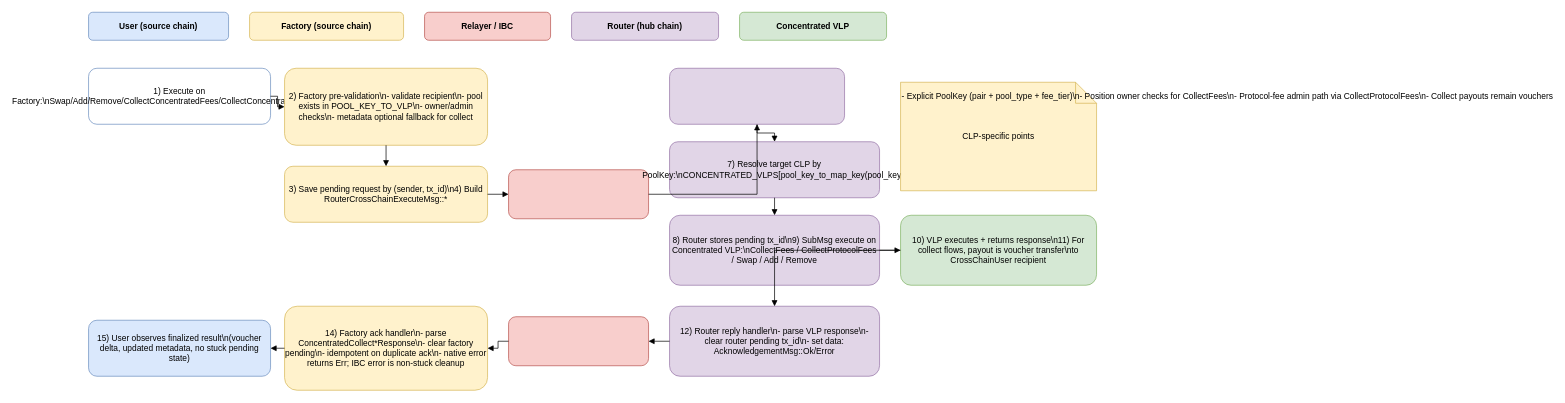
Some shapes in this 1565 by 403 pixel diagram are drawn without their labels. The shapes that lost their labels are listed below. From the top down, each one's centre as x and y in pixels, then its label:
At (757,96): "6) Router receive\n- chain_uid + sender checks\n- decode message".
At (578,194): "5) Relay packet Factory -> Router".
At (578,341): "13) Relay ack Router -> Factory".
